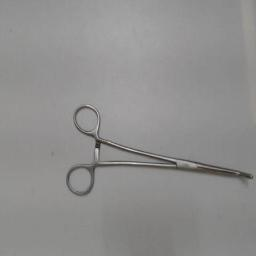Lahey Forceps: (64, 100, 254, 200)
